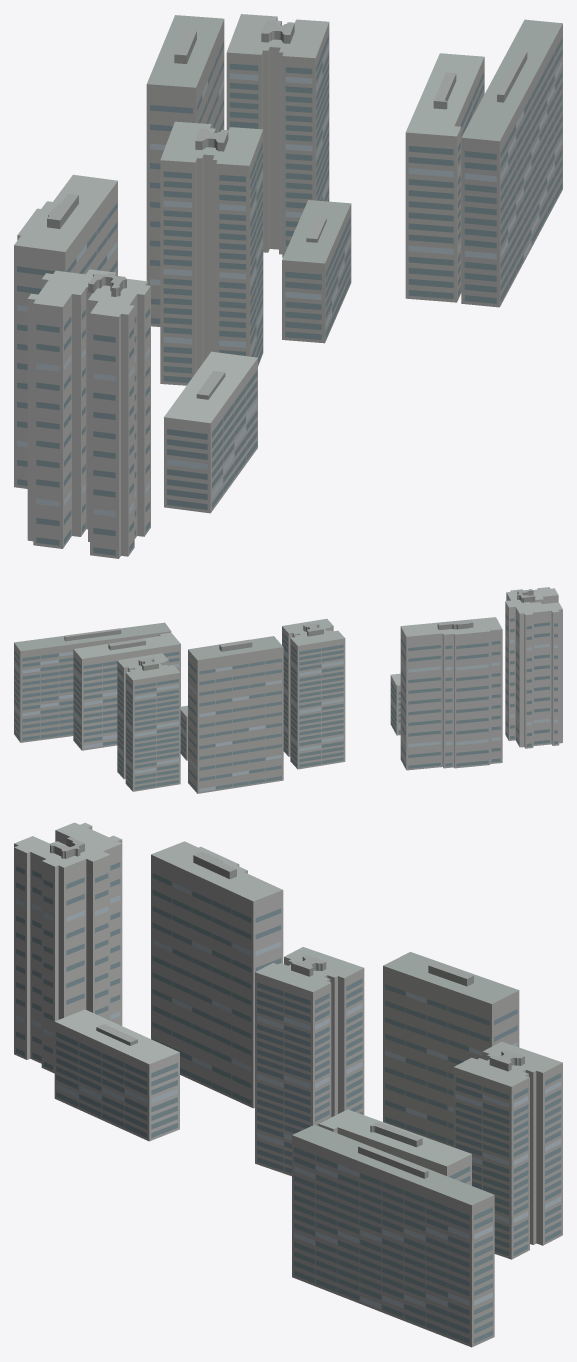
Rendered from apt-a13184107.glb.
3 renders of one model, top to bottom at view 1: azimuth 30°, elevation 25°; view 2: azimuth 150°, elevation 25°; view 3: azimuth 270°, elevation 25°, orthographic. The views are drawn at different scales.
Visible parts, largest first — view 1: apt-a13184107; view 2: apt-a13184107; view 3: apt-a13184107.
Boxes of the visible parts, left/top/right/bottom form: apt-a13184107: left=14, top=14, right=562, bottom=558; apt-a13184107: left=14, top=587, right=562, bottom=793; apt-a13184107: left=14, top=822, right=562, bottom=1347.
Size of the model in its own units: 219 by 69 by 160.
